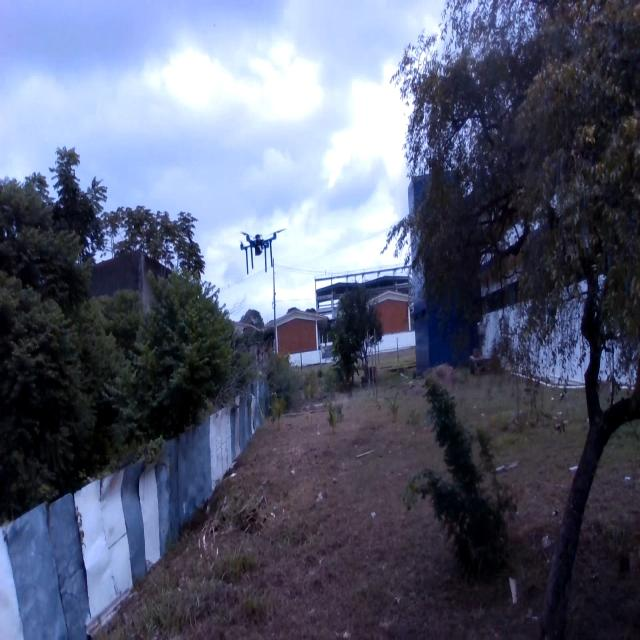-uav-: (235, 224, 287, 277)
